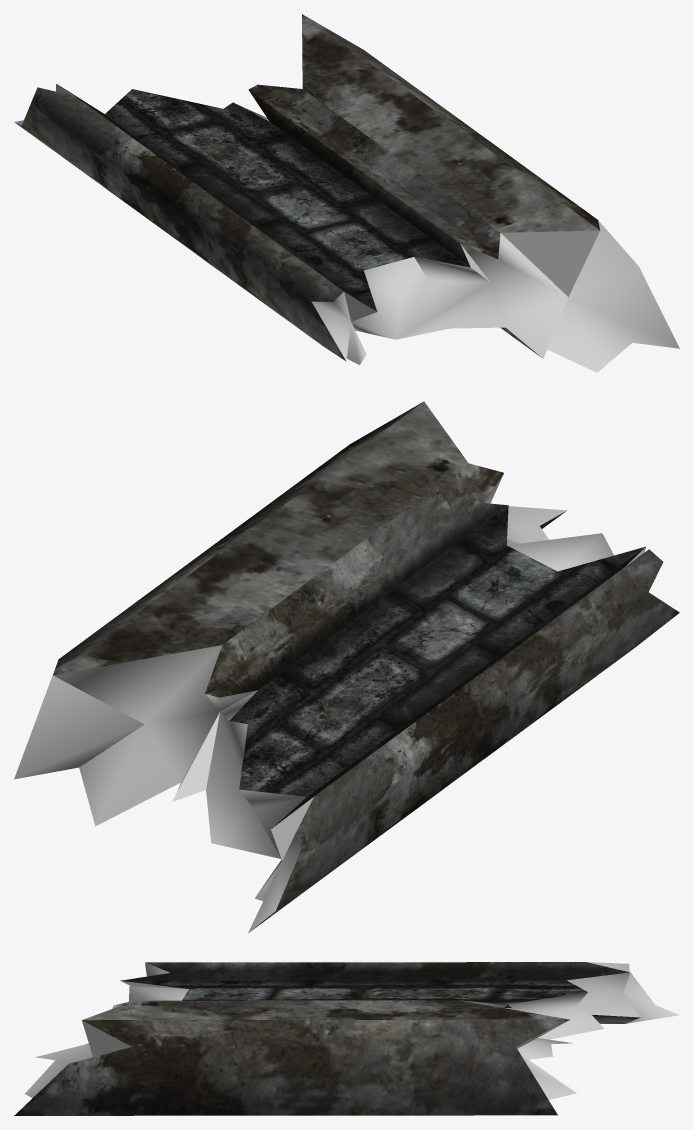
The model's file is broken_stairs_part02.dae.
3 views of the same model, one above another, from view 1: azimuth 30°, elevation 25°; view 2: azimuth 150°, elevation 25°; view 3: azimuth 270°, elevation 25° (orthographic). The views are drawn at different scales.
Visible parts, largest first — view 1: polySurface745, polySurface746; view 2: polySurface745, polySurface746; view 3: polySurface745, polySurface746.
Part boxes in pixels (x1,y1,x2,y2): polySurface745: [16, 14, 600, 360]; polySurface746: [14, 84, 679, 372]; polySurface745: [53, 401, 679, 930]; polySurface746: [14, 474, 645, 932]; polySurface745: [14, 962, 640, 1115]; polySurface746: [25, 962, 679, 1099].
Size of the model in its own units: 1.8 by 0.6791 by 4.6.
